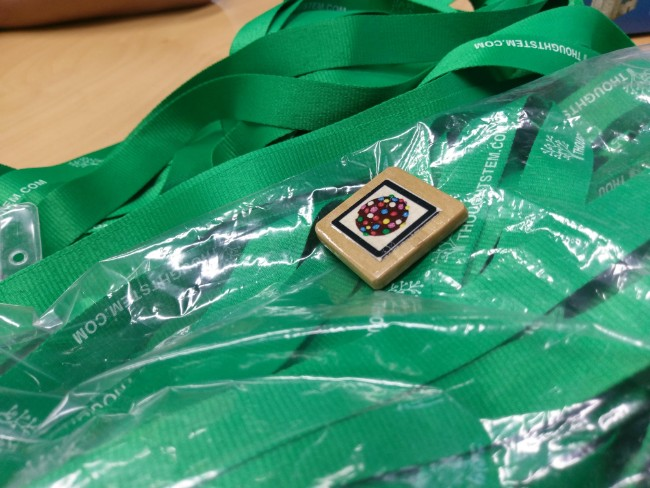cookie: (326, 175, 448, 266)
